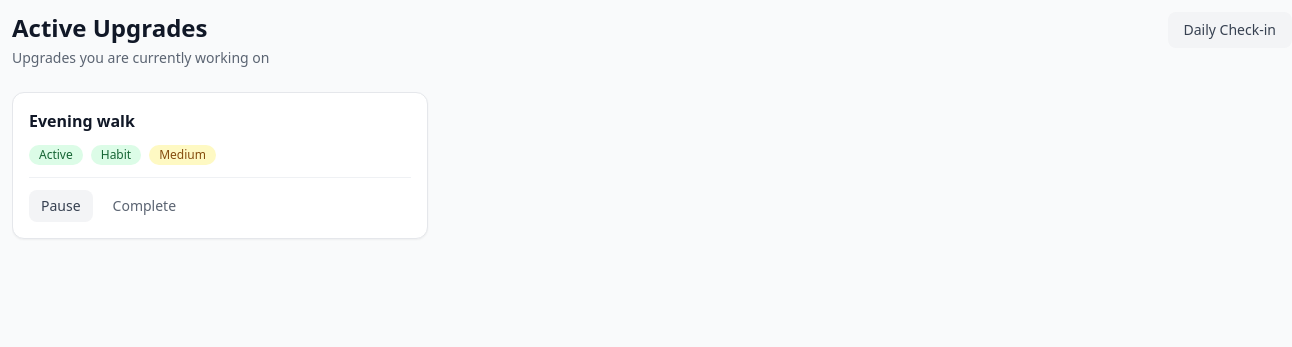
Test: ActiveUpgradesPage › GivenTheApiRefusesAPause_WhenItIsPressed_ThenTheCardSaysWhyWithTheReference
Step 1. Click the button "Pause " → x=61, y=206, box [29,190,93,222]
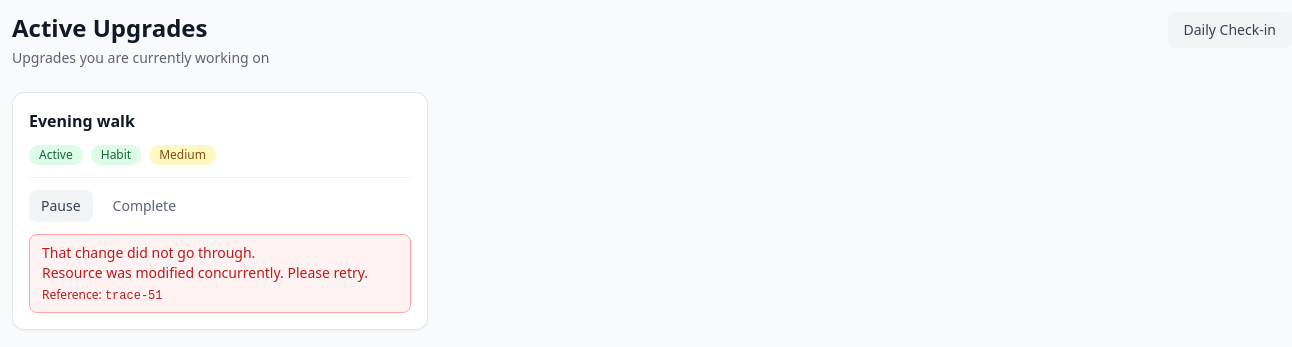
Expected: the message shows "That change did not go through.", [42,243,255,262]
Expected: the message shows "Resource was modified concurrently. Please retry.", [42,263,368,282]
Expected: the message shows "trace-51", [105,289,162,303]
